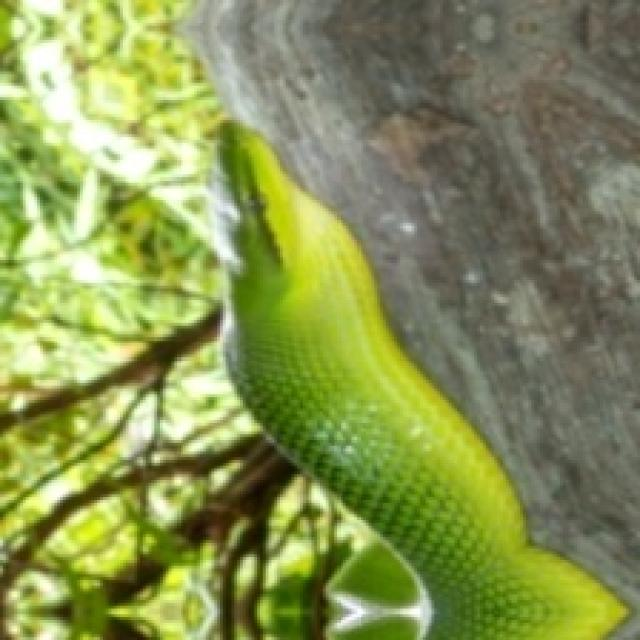red-tailed green ratsnake: (220, 123, 623, 637)
